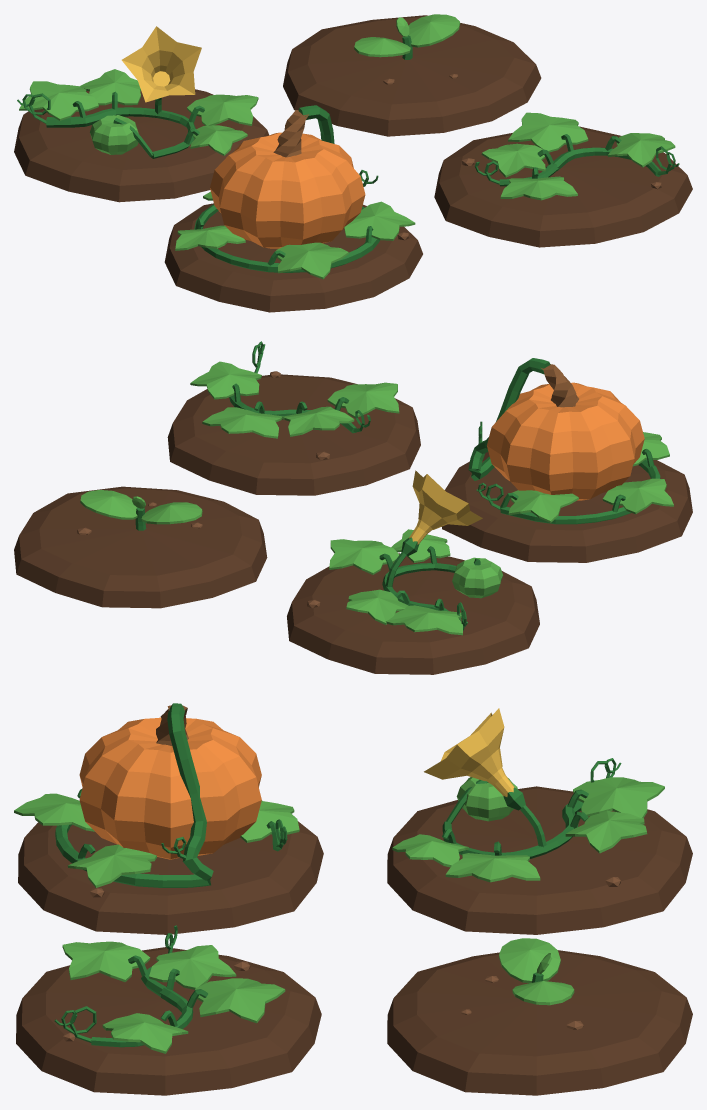
Rendered from pumpkin-growth-stages.glb.
3 renders of one model, top to bottom at view 1: azimuth 30°, elevation 25°; view 2: azimuth 150°, elevation 25°; view 3: azimuth 270°, elevation 25°, orthographic. The views are drawn at different scales.
Parts seen in each view (by area): view 1: Pumpkin_Stage4_Ripe, Pumpkin_Stage3_Flower, Pumpkin_Stage2_Vine, Pumpkin_Stage1_Sprout; view 2: Pumpkin_Stage4_Ripe, Pumpkin_Stage3_Flower, Pumpkin_Stage2_Vine, Pumpkin_Stage1_Sprout; view 3: Pumpkin_Stage4_Ripe, Pumpkin_Stage3_Flower, Pumpkin_Stage2_Vine, Pumpkin_Stage1_Sprout.
Part boxes in pixels (x1,y1,x2,y2): Pumpkin_Stage4_Ripe: (164,105,422,312); Pumpkin_Stage3_Flower: (14,26,268,202); Pumpkin_Stage2_Vine: (434,112,692,247); Pumpkin_Stage1_Sprout: (283,14,541,136); Pumpkin_Stage4_Ripe: (442,358,692,562); Pumpkin_Stage3_Flower: (287,470,539,674); Pumpkin_Stage2_Vine: (167,341,420,495); Pumpkin_Stage1_Sprout: (14,486,267,608); Pumpkin_Stage4_Ripe: (14,703,323,934); Pumpkin_Stage3_Flower: (387,708,692,934); Pumpkin_Stage2_Vine: (16,925,321,1095); Pumpkin_Stage1_Sprout: (387,938,692,1095).
Bounding box in the file's own units: 10.91 × 3.02 × 10.62.
